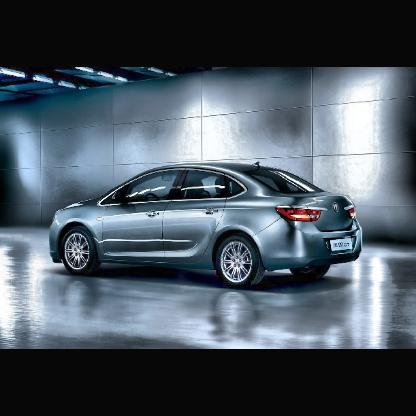Buick Verano Sedan 2012: (50, 162, 363, 292)
